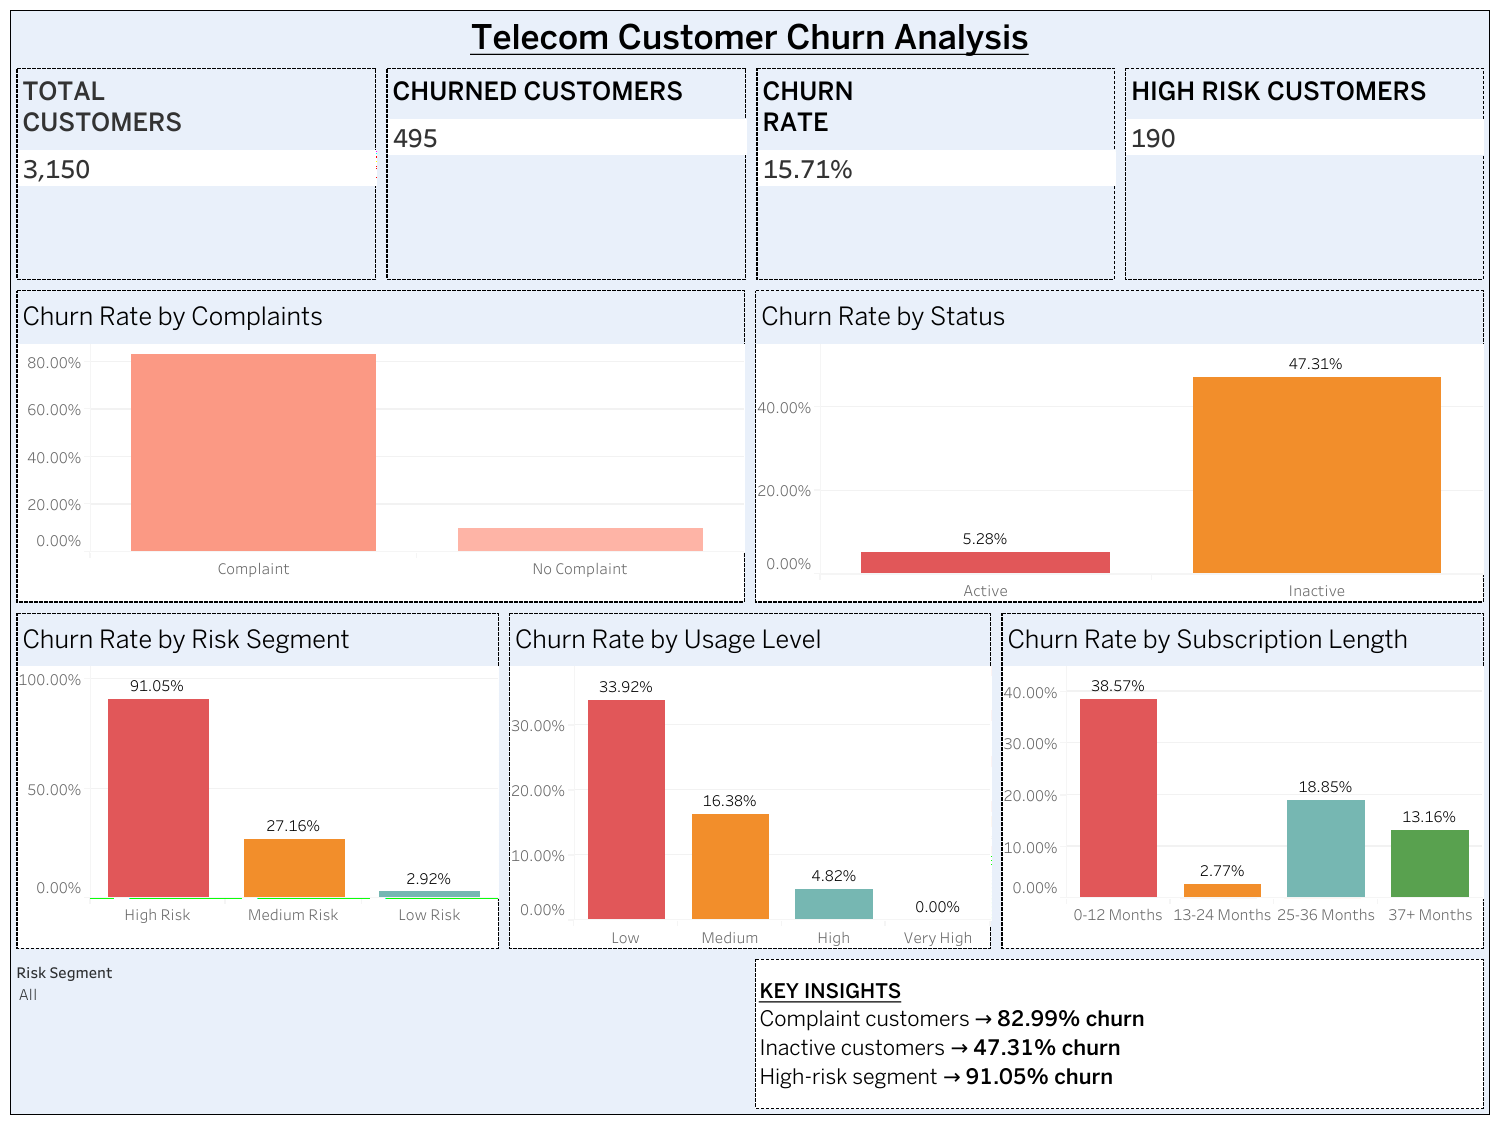

This screenshot's page, from the dashboard's own definition file:
{"tool":"tableau","page":{"name":"Telecom Customer Churn Analysis","canvas":[1200,900],"ordinal":0},"visuals":[{"type":"title","box":[9,9,1182,48]},{"type":"worksheet","title":"Total Customers","mark":"Automatic","box":[9,57,296,176]},{"type":"worksheet","title":"Churned Customers","mark":"Automatic","box":[305,57,296,176]},{"type":"worksheet","title":"Churn Rate","mark":"Automatic","box":[601,57,295,176]},{"type":"worksheet","title":"High Risk Customers","mark":"Automatic","box":[896,57,295,176]},{"type":"worksheet","title":"Churn Rate by Complaints","mark":"Automatic","rows":["Calculation_1515153982009344"],"cols":["Calculation_1515154130067459"],"box":[9,233,591,255]},{"type":"worksheet","title":"Churn Rate by Status","mark":"Automatic","rows":["Calculation_1515153982009344"],"cols":["status"],"box":[600,233,591,255]},{"type":"worksheet","title":"Churn Rate by Risk Segment","mark":"Automatic","rows":["Calculation_1515153982009344"],"cols":["risk_segment"],"box":[9,488,394,275]},{"type":"worksheet","title":"Churn Rate by Usage Level","mark":"Automatic","rows":["Calculation_1515153982009344"],"cols":["Calculation_1515153985474561"],"box":[403,488,394,275]},{"type":"worksheet","title":"Churn Rate by Subscription Length","mark":"Automatic","rows":["Calculation_1515153982009344"],"cols":["Calculation_1515153986113538"],"box":[797,488,394,275]},{"type":"filter","title":"Churn Rate by Risk Segment","param":"[federated.1f7kd5q13al1d415e8zlc0ui7pzx].[none:risk_segment:nk]","box":[9,763,591,128]},{"type":"text","box":[600,763,591,128]}]}

Visuals, with their boxes in screenshot pixels (x1, y1, x2, y2), scaled from the page's 1200x900 canvas onto the 1499x1124 screenshot:
title: region(11, 11, 1488, 71)
"Total Customers" worksheet: region(11, 71, 381, 291)
"Churned Customers" worksheet: region(381, 71, 751, 291)
"Churn Rate" worksheet: region(751, 71, 1119, 291)
"High Risk Customers" worksheet: region(1119, 71, 1488, 291)
"Churn Rate by Complaints" worksheet: region(11, 291, 750, 609)
"Churn Rate by Status" worksheet: region(750, 291, 1488, 609)
"Churn Rate by Risk Segment" worksheet: region(11, 609, 503, 953)
"Churn Rate by Usage Level" worksheet: region(503, 609, 996, 953)
"Churn Rate by Subscription Length" worksheet: region(996, 609, 1488, 953)
"Churn Rate by Risk Segment" filter: region(11, 953, 750, 1113)
text: region(750, 953, 1488, 1113)
